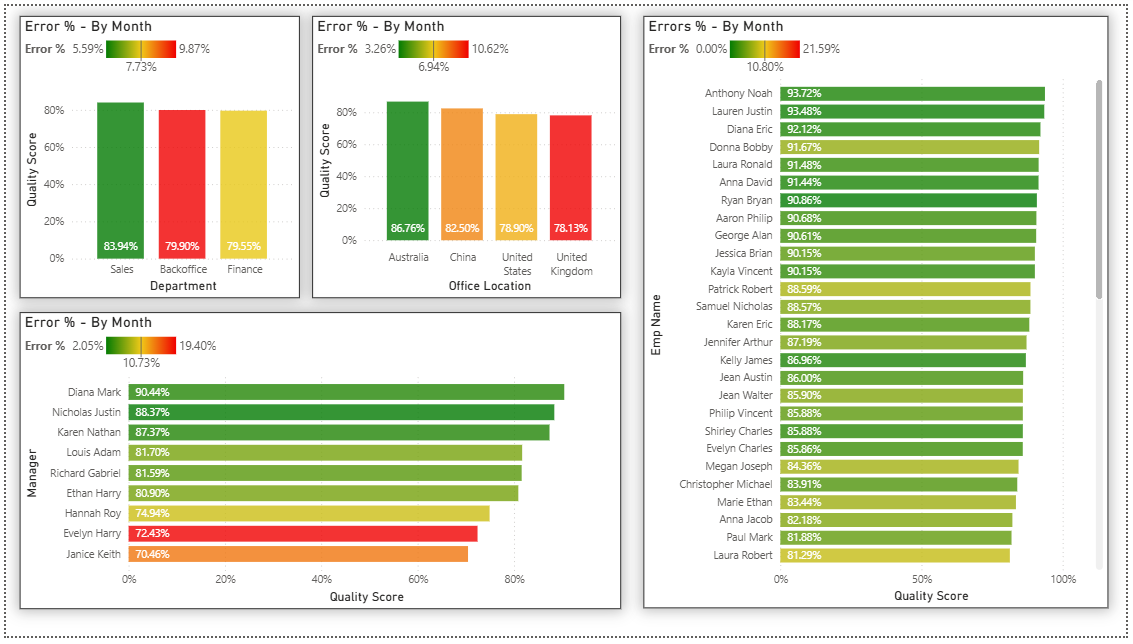

Layout of this report page (visuals, bound fields, positions):
{"tool":"powerbi","page":{"name":"Overall Analysis","canvas":[1280,720],"ordinal":2},"visuals":[{"type":"barChart","title":"Errors % - By Month","fields":{"Y":["All_Measures.Quality Score"],"Category":["Dim_Employee.Emp Name"]},"box":[728.6,11.4,531.4,677.1],"z":0},{"type":"clusteredColumnChart","title":"Error % - By Month","fields":{"Category":["Dim_Employee.Office Location"],"Y":["All_Measures.Quality Score"]},"box":[350,11.2,352.5,322.5],"z":1000},{"type":"clusteredColumnChart","title":"Error % - By Month","fields":{"Category":["Dim_Department.Department"],"Y":["All_Measures.Quality Score"]},"box":[15,11.2,320,322.5],"z":2000},{"type":"clusteredBarChart","title":"Error % - By Month","fields":{"Y":["All_Measures.Quality Score"],"Category":["Dim_Manager.Manager"]},"box":[15,350,687.5,339.2],"z":3000}]}

Visuals, with their boxes in screenshot pixels (x1, y1, x2, y2), scaled from the page's 1280x720 canvas onto the 1133x644 screenshot:
"Errors % - By Month" barChart: select_region(645, 10, 1115, 616)
"Error % - By Month" clusteredColumnChart: select_region(310, 10, 622, 298)
"Error % - By Month" clusteredColumnChart: select_region(13, 10, 297, 298)
"Error % - By Month" clusteredBarChart: select_region(13, 313, 622, 616)
